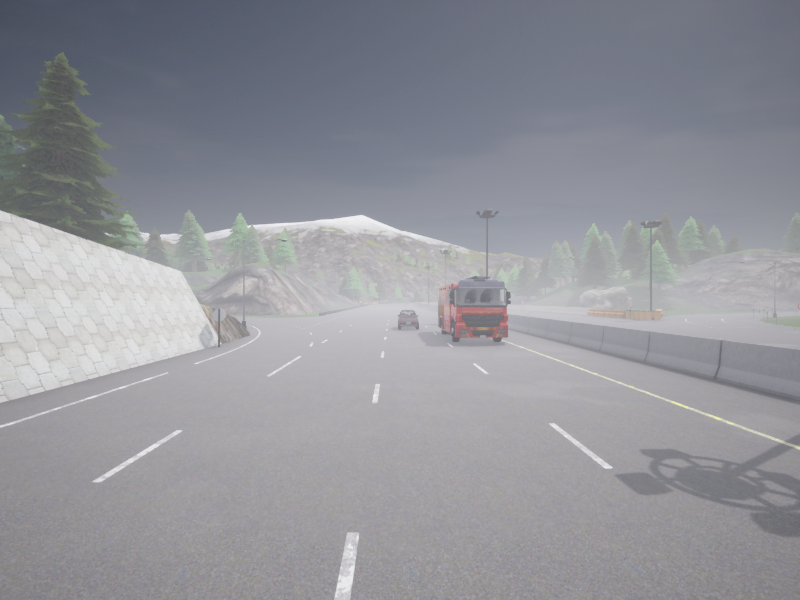vehicle: (438, 276, 510, 341), (398, 310, 418, 329)
